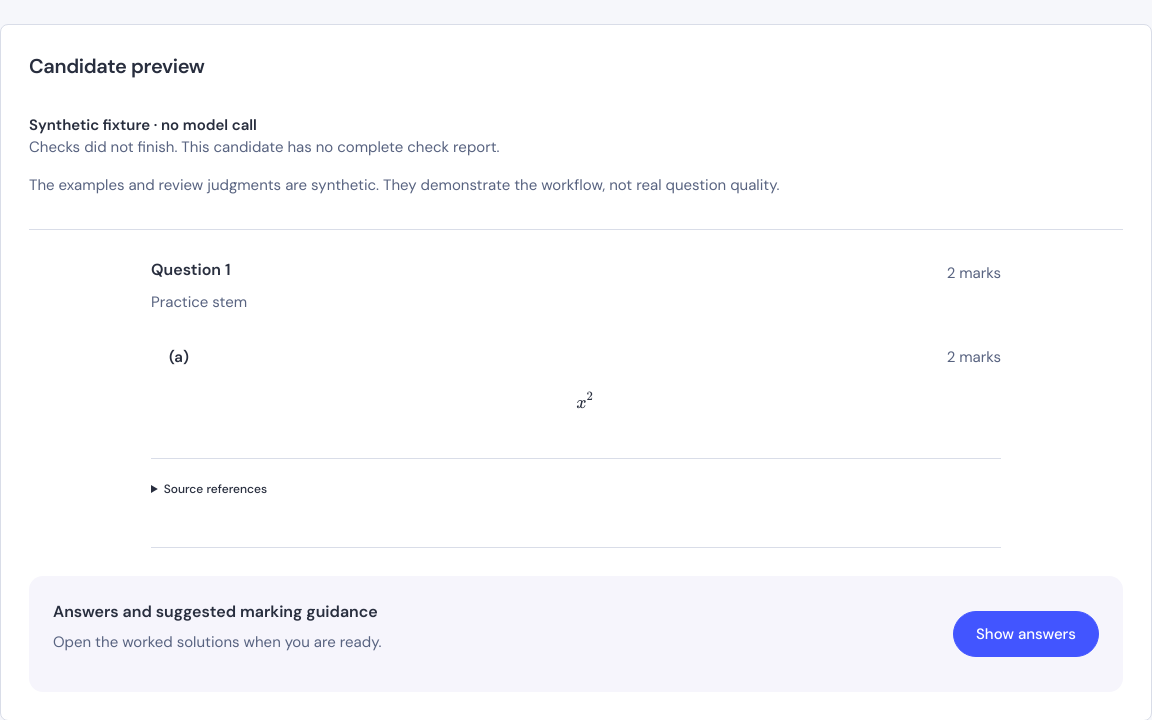
candidate answer separation › keeps questions visible when the explicit answer request fails
Expected: the text "Practice stem" is shown, [151,292,247,312]
What coordinates should you click on to do the following:
click the button "Show answers"
I would click on:
 (1026, 634)
Its box is [953,611,1099,657].
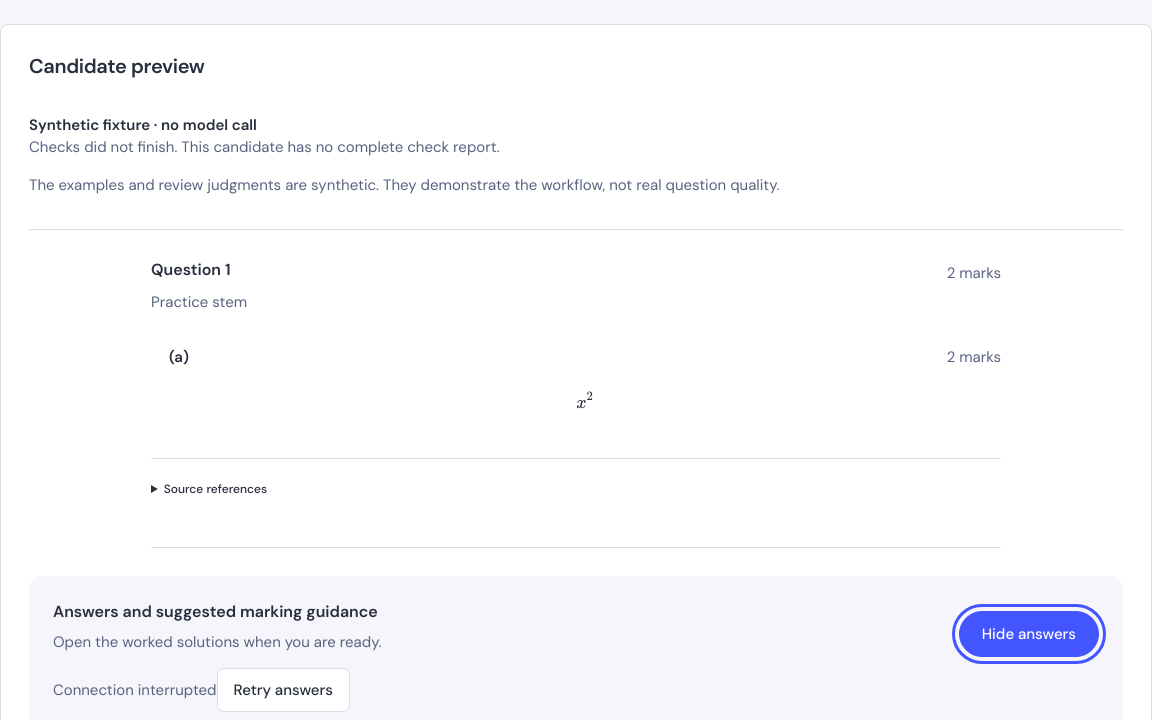
Expected: the text "Practice stem" is shown, [151,292,247,312]
Expected: the message "Connection interrupted Retry answers" is shown, [53,668,350,712]
Expected: the button "Retry answers" is shown, [216,668,350,712]
